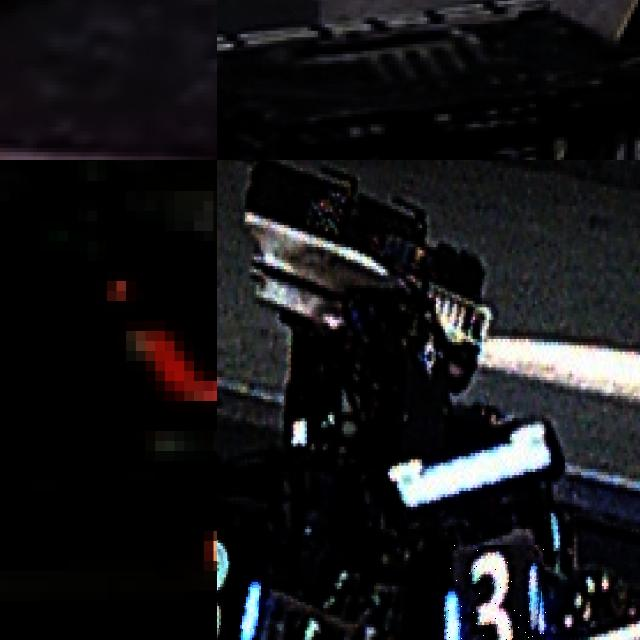B3: (440, 545, 546, 640), (217, 525, 258, 640)
